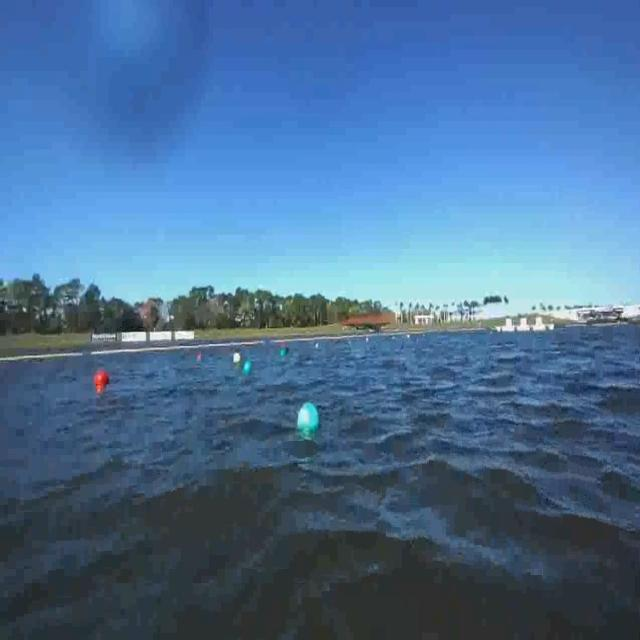green-buoy: (298, 403, 321, 439), (243, 359, 253, 374)
red-buoy: (93, 370, 108, 384)
